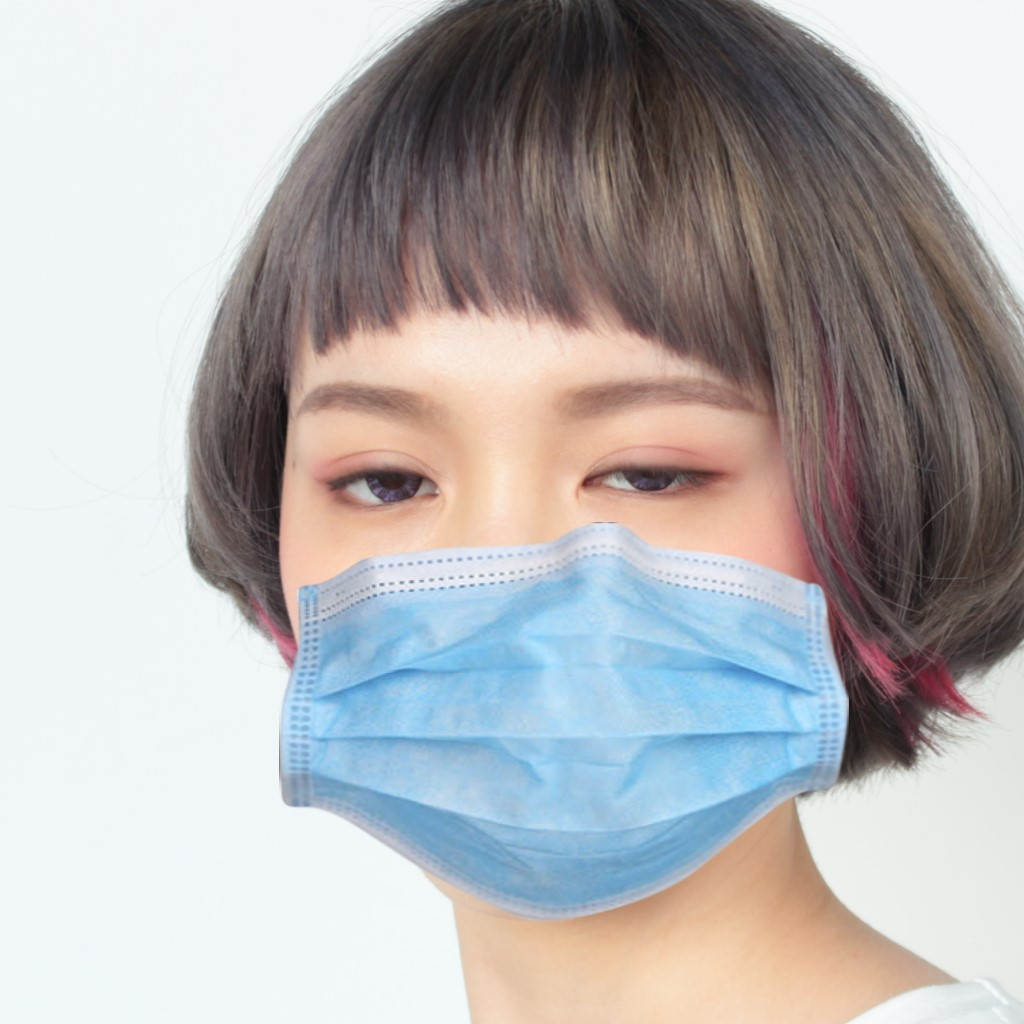con_mascara: (260, 245, 837, 917)
